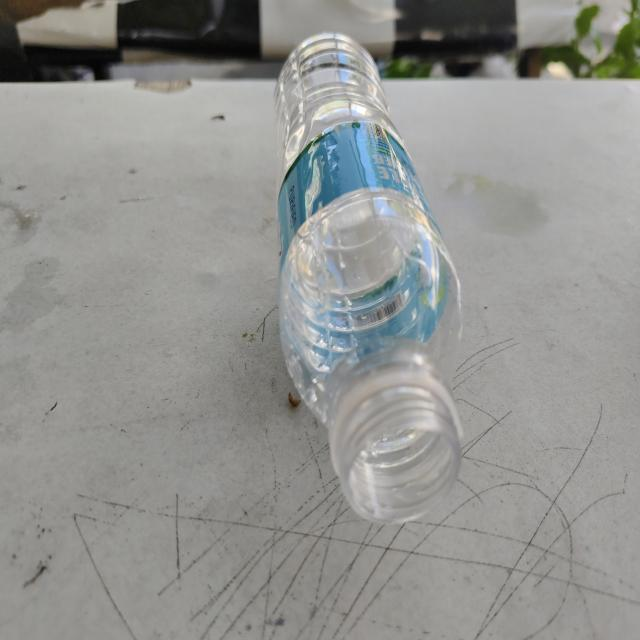Bottle: (275, 33, 463, 522)
